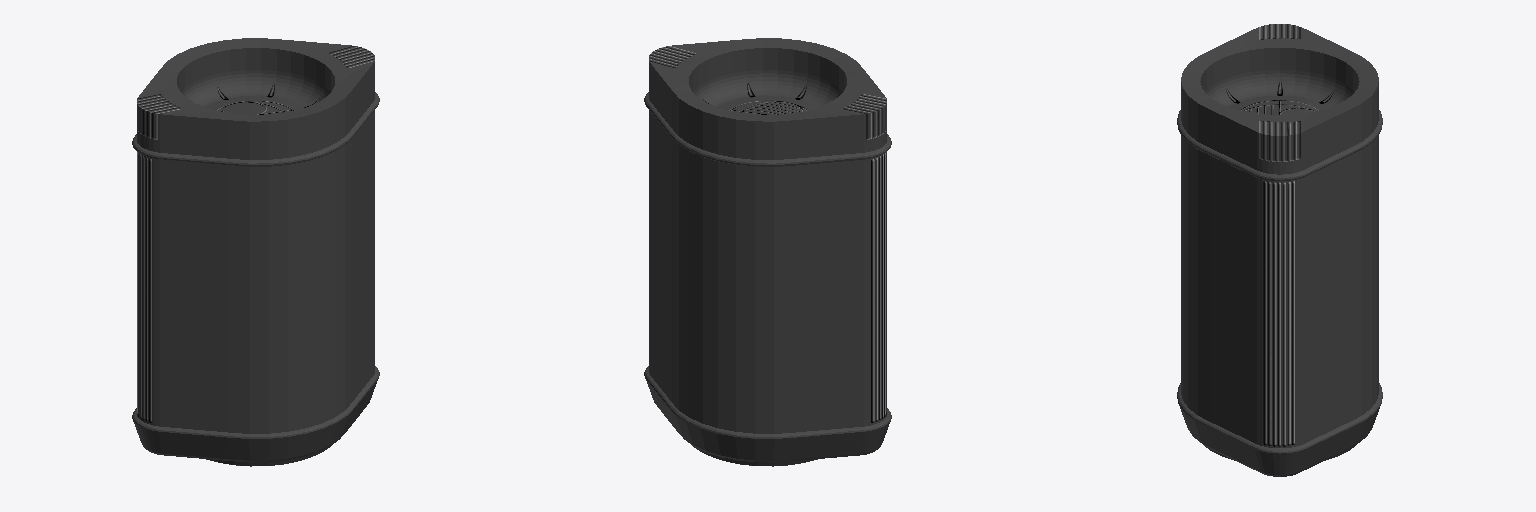
3 views of the same model, side by side, from view 1: azimuth 30°, elevation 25°; view 2: azimuth 150°, elevation 25°; view 3: azimuth 270°, elevation 25° (orthographic).
Parts seen in each view (by area): view 1: Bohrok_Canister_Cylinder.002, Bohrok_Canister_Lid_Cylinder.003; view 2: Bohrok_Canister_Cylinder.002, Bohrok_Canister_Lid_Cylinder.003; view 3: Bohrok_Canister_Cylinder.002, Bohrok_Canister_Lid_Cylinder.003.
Part boxes in pixels (bbox=[...]): Bohrok_Canister_Cylinder.002: bbox=[132, 92, 379, 466]; Bohrok_Canister_Lid_Cylinder.003: bbox=[137, 38, 374, 159]; Bohrok_Canister_Cylinder.002: bbox=[644, 92, 891, 466]; Bohrok_Canister_Lid_Cylinder.003: bbox=[649, 38, 886, 159]; Bohrok_Canister_Cylinder.002: bbox=[1177, 110, 1382, 476]; Bohrok_Canister_Lid_Cylinder.003: bbox=[1181, 24, 1378, 174].
Bounding box in the file's own units: 2.77 × 3.92 × 2.09.
Materials: 2 (1 with a texture image).